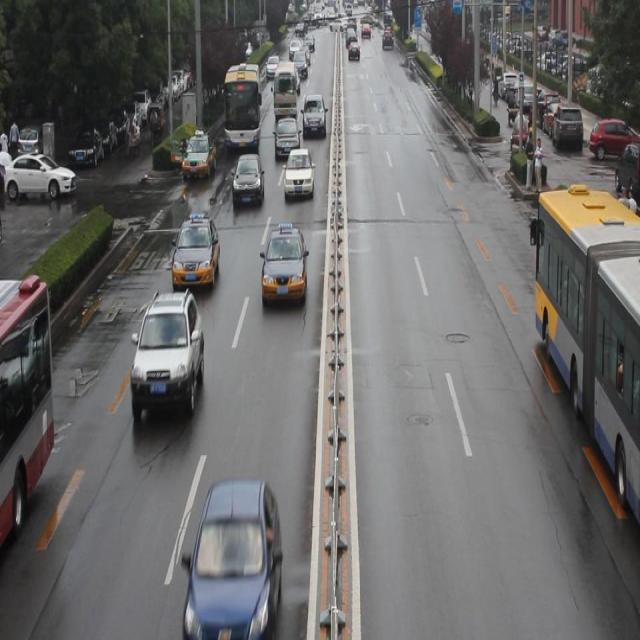car: (184, 479, 280, 628), (131, 294, 204, 422), (260, 224, 306, 307), (173, 211, 216, 289), (183, 134, 216, 184), (231, 155, 263, 201), (283, 148, 312, 198), (300, 95, 327, 135), (274, 118, 298, 156)
truck: (274, 62, 297, 118)
van: (531, 183, 640, 519), (1, 277, 58, 531), (223, 64, 260, 152)
